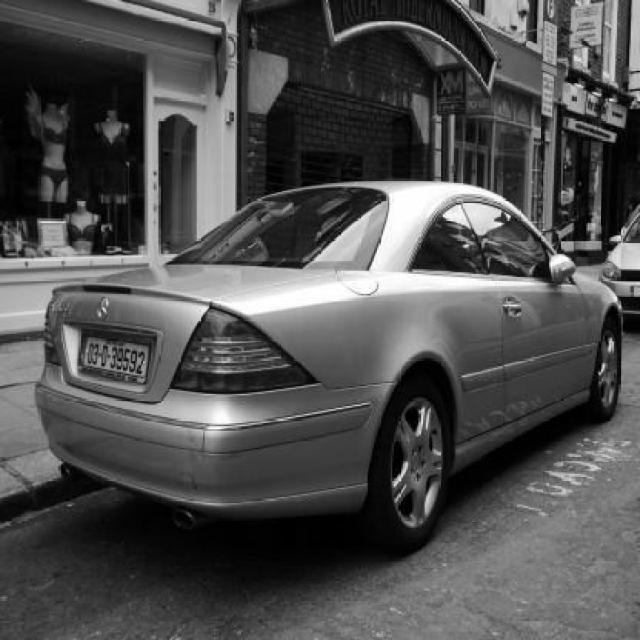car: (36, 174, 626, 557)
license-plate: (76, 331, 156, 389)
